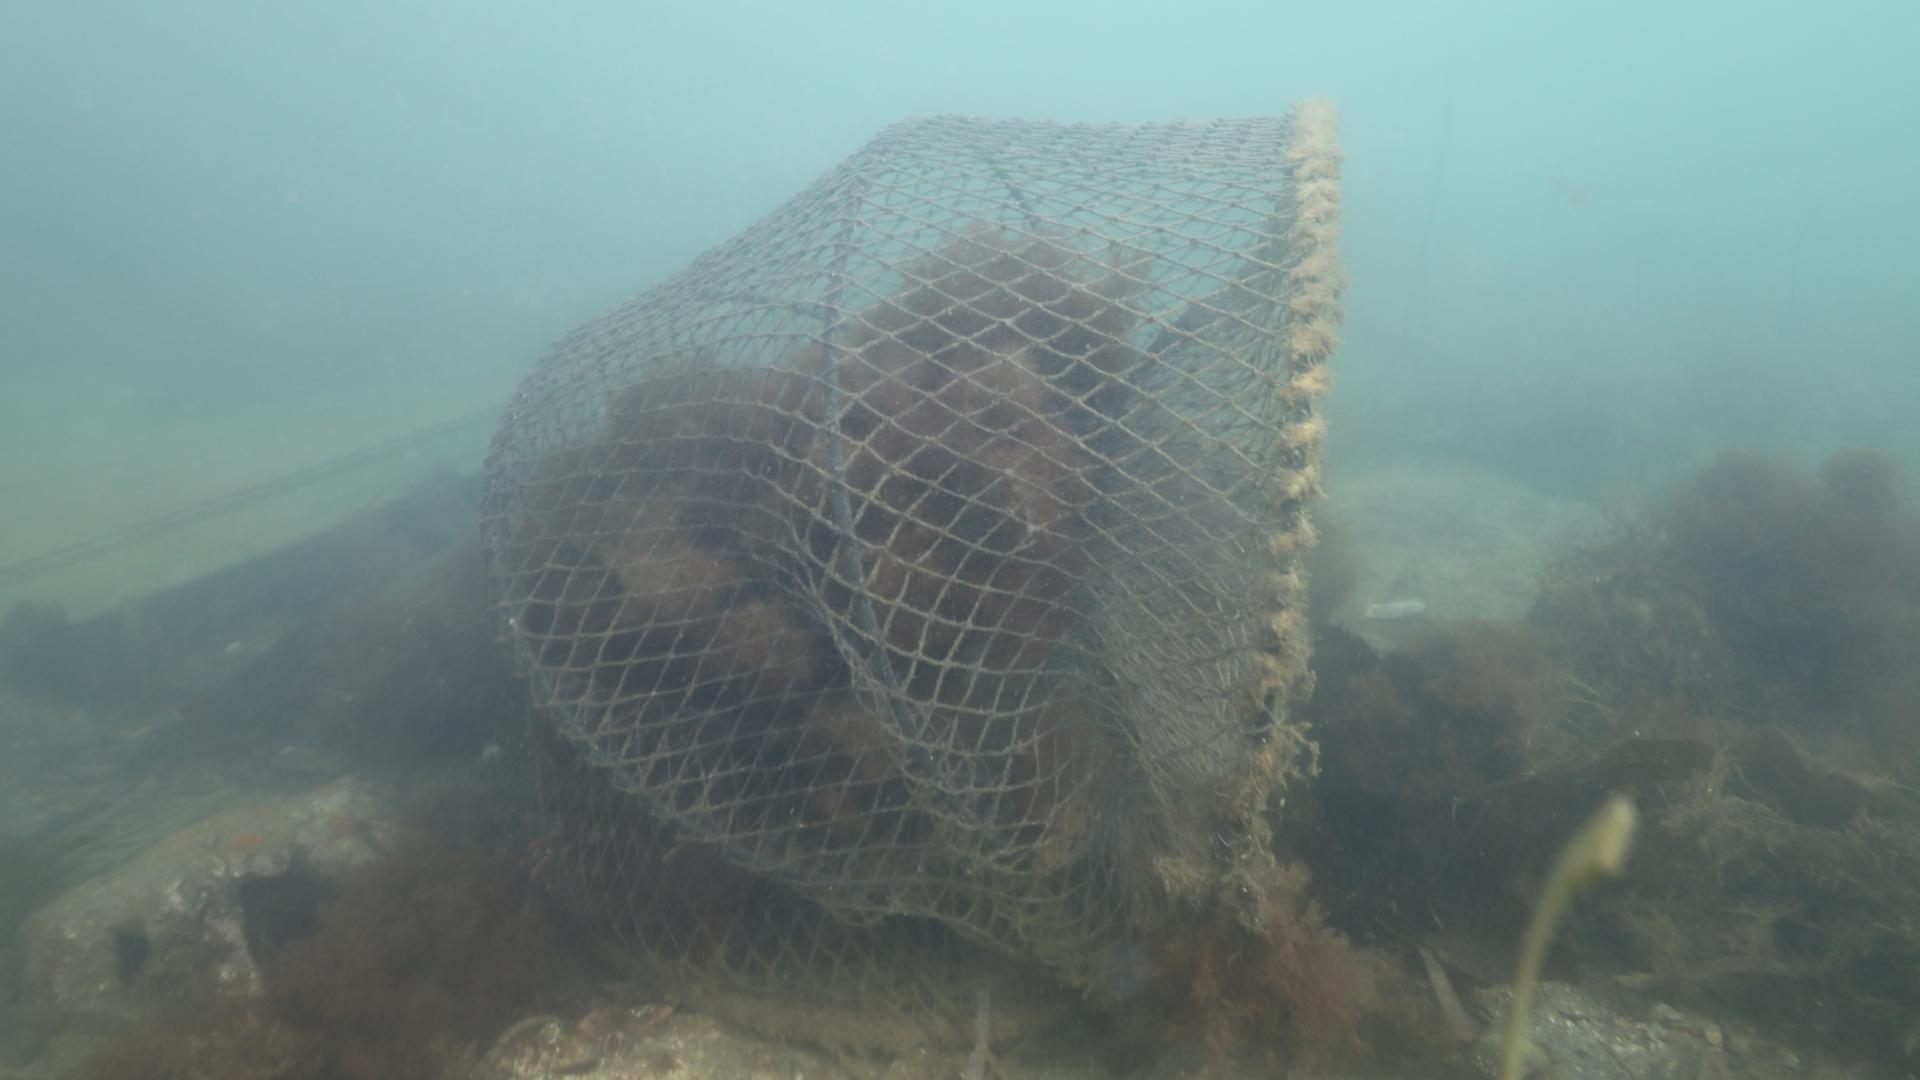spring fish trap: (480, 98, 1336, 1023)
